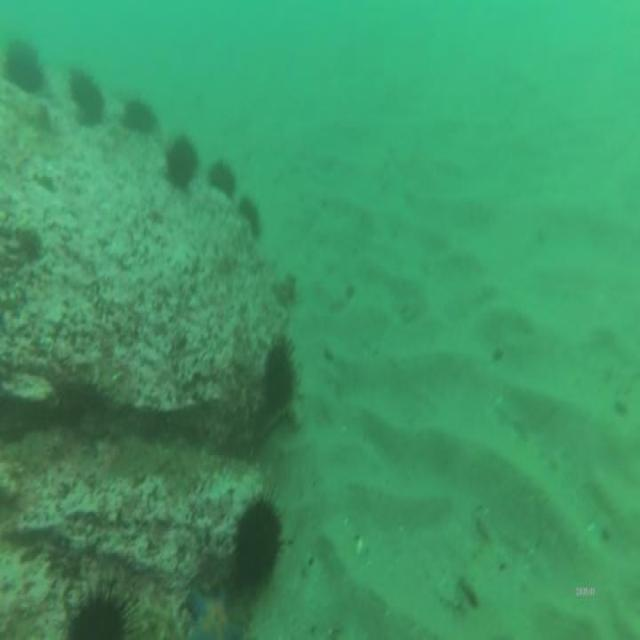echinus: (236, 501, 282, 583), (68, 596, 124, 640), (6, 40, 44, 96), (264, 344, 296, 408), (70, 66, 102, 126), (165, 131, 198, 185), (210, 158, 236, 196), (240, 196, 262, 239), (126, 98, 154, 131)
starfish: (184, 581, 240, 640)
